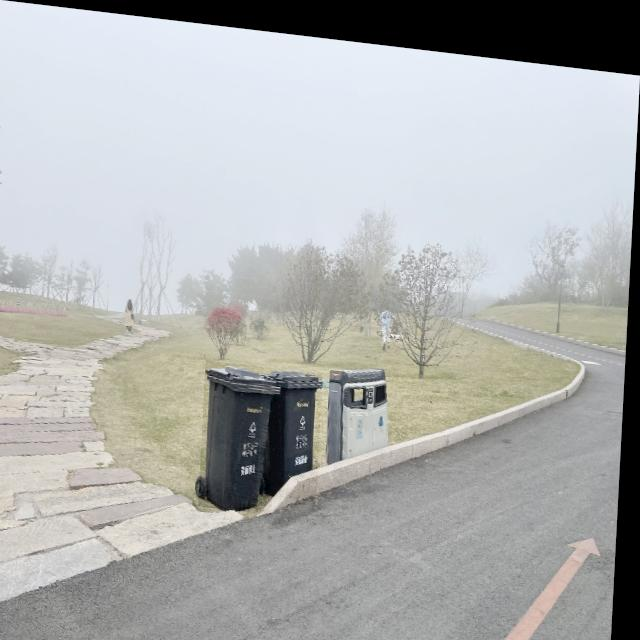garbage_bin: (203, 355, 283, 508), (261, 360, 326, 493), (330, 353, 394, 460)
